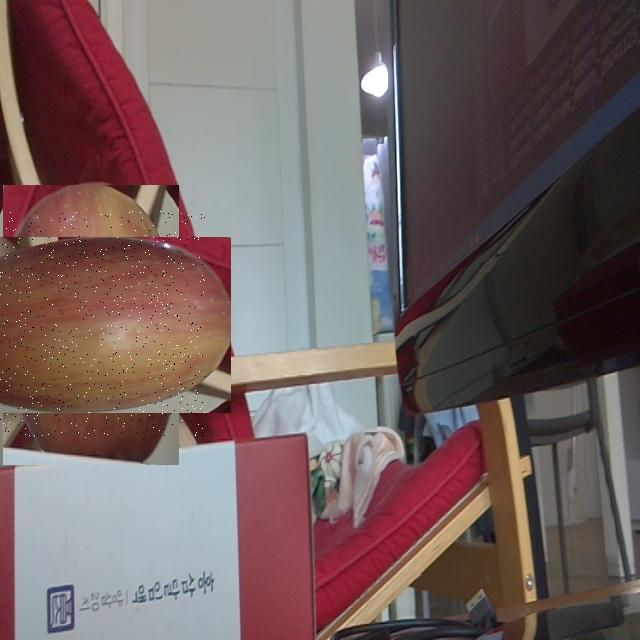apple: (0, 211, 205, 439)
